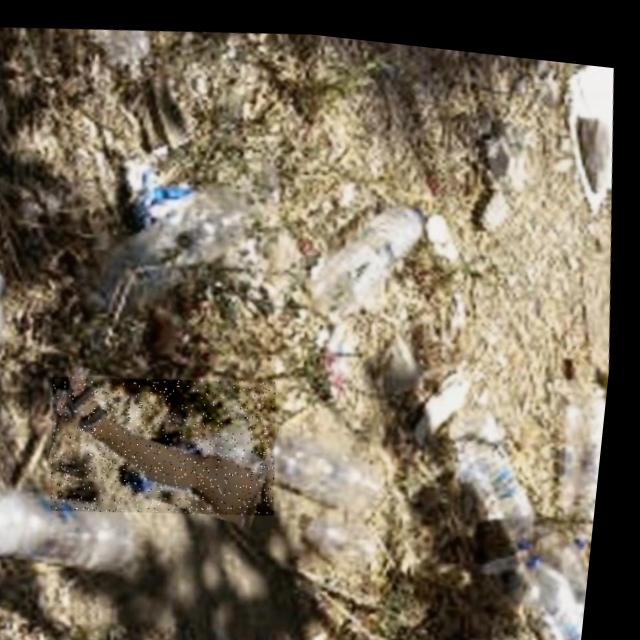Person in Rubble: (48, 355, 294, 527)
